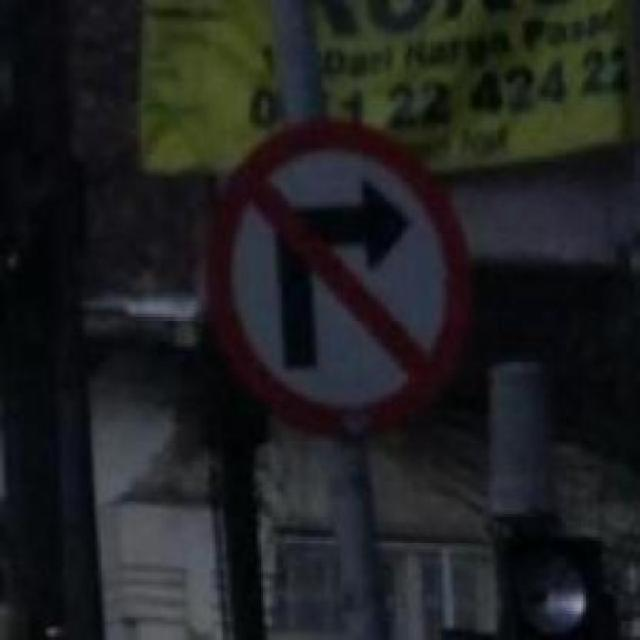right turn prohibited: (203, 115, 470, 439)
